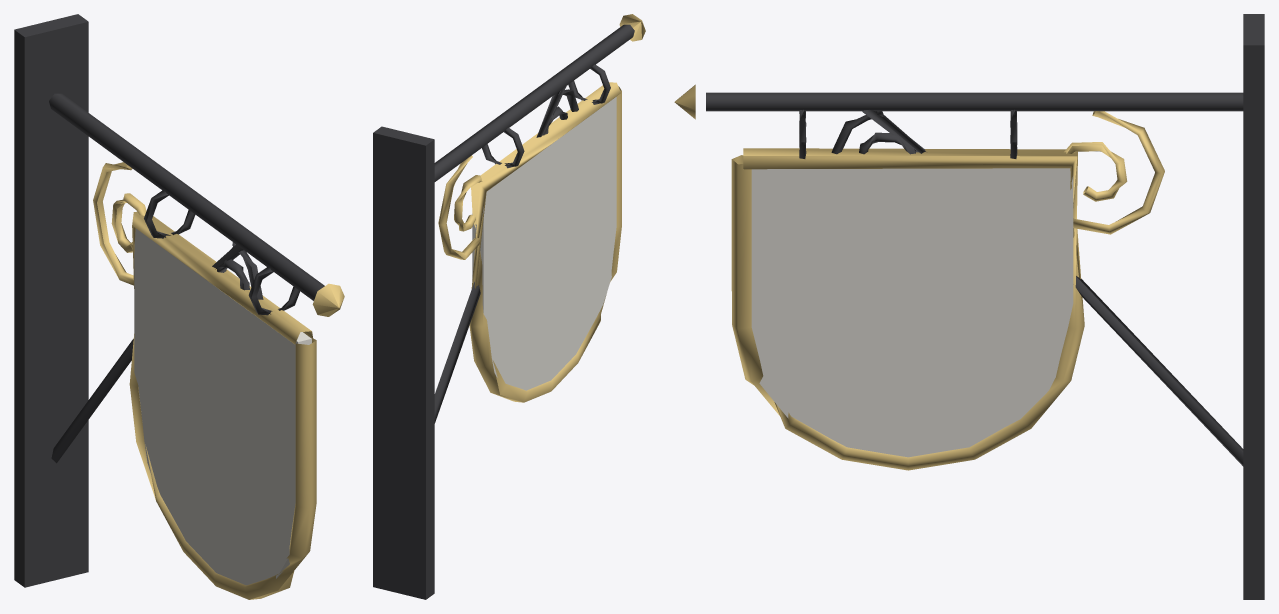
Rendered from sign-bracket.glb.
3 views of the same model, side by side, from view 1: azimuth 30°, elevation 25°; view 2: azimuth 150°, elevation 25°; view 3: azimuth 270°, elevation 25° (orthographic). The views are drawn at different scales.
Parts seen in each view (by area): view 1: sign-bracket; view 2: sign-bracket; view 3: sign-bracket.
Part boxes in pixels (x1,y1,x2,y2): sign-bracket: (14,14,344,599); sign-bracket: (373,14,645,599); sign-bracket: (674,14,1264,599).
Bounding box in the file's own units: 0.14 × 1.15 × 1.11.
